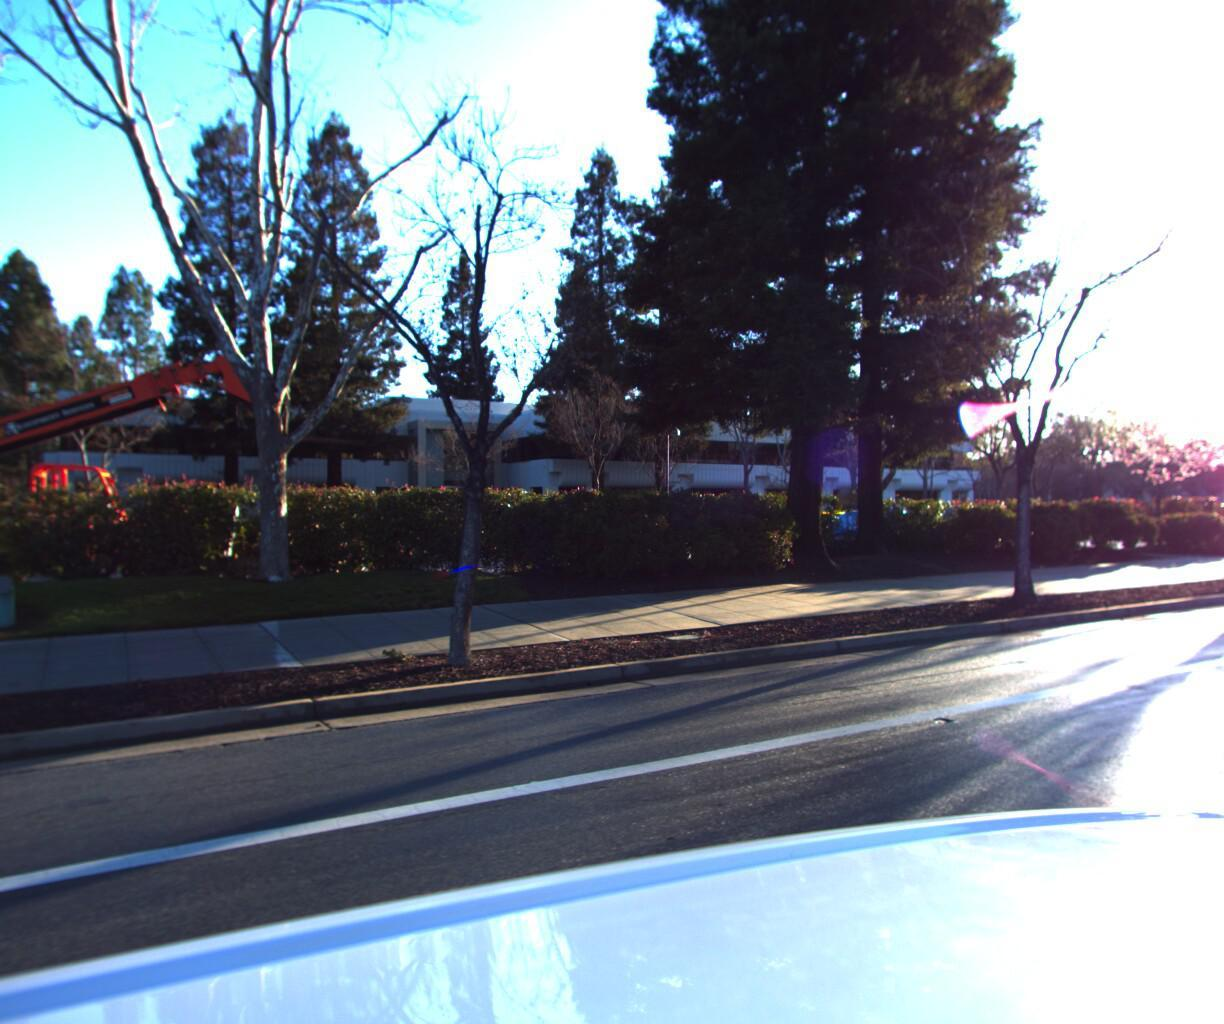other_vehicle: (0, 324, 372, 606)
